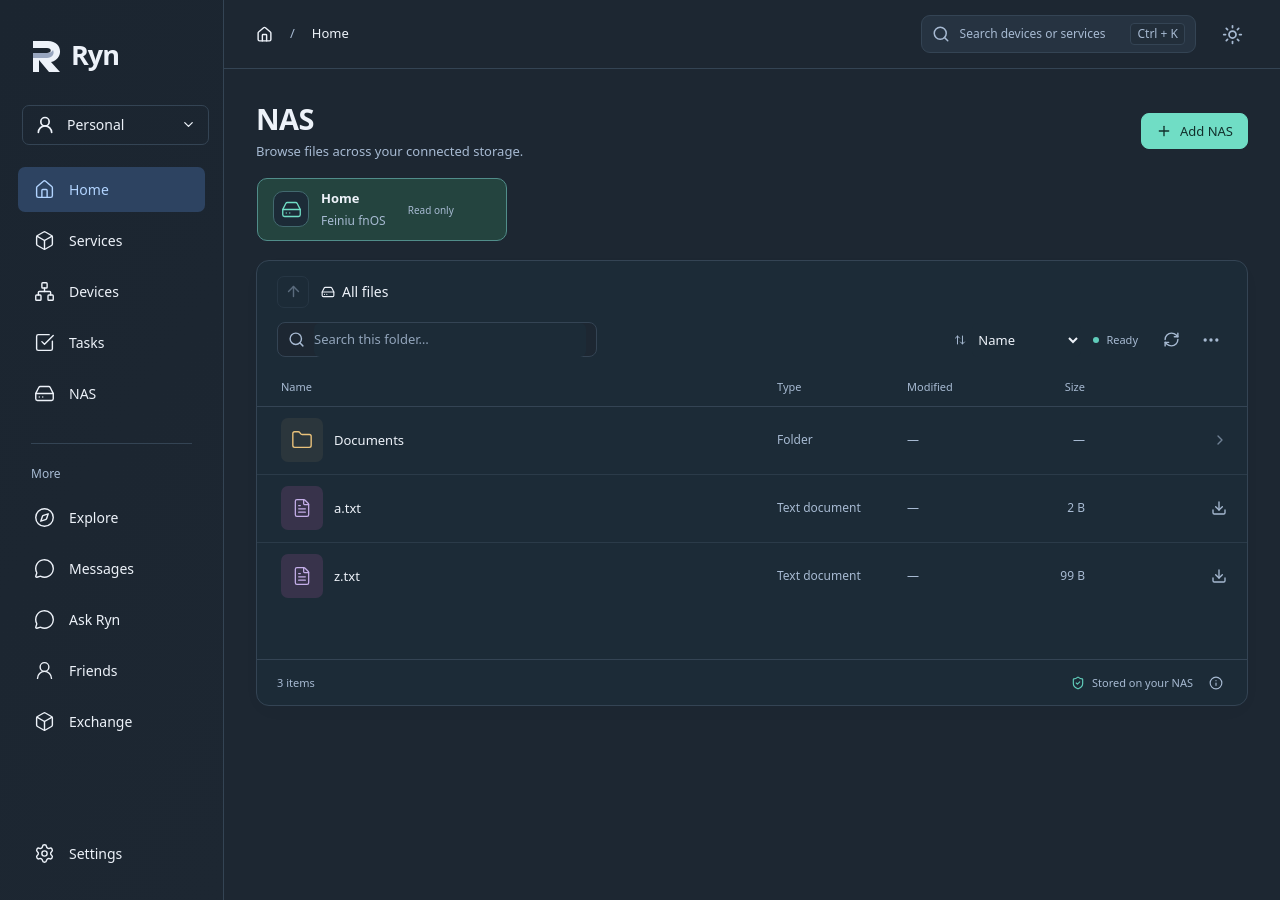
it: sorts files by size and recovers from an empty search
Expected: the button "a.txt" is shown, top-left (281, 486), bottom-right (753, 530)
Select "Size" in the dropdown named "Sort files" at (1027, 340), box top-left (972, 323), bottom-right (1081, 357)
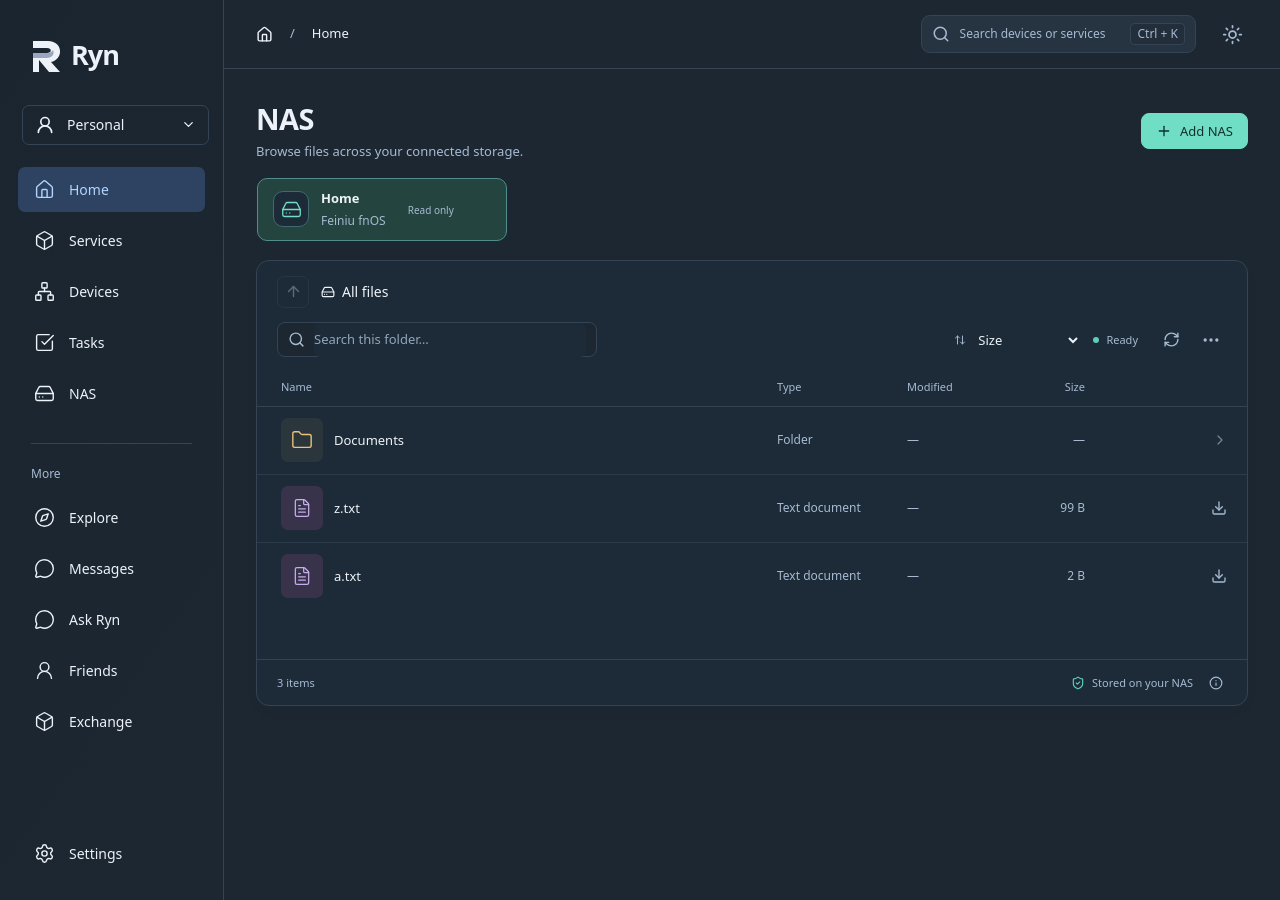
Type "missing" into the field named "Filter this folder" at (450, 340), box top-left (314, 323), bottom-right (586, 357)
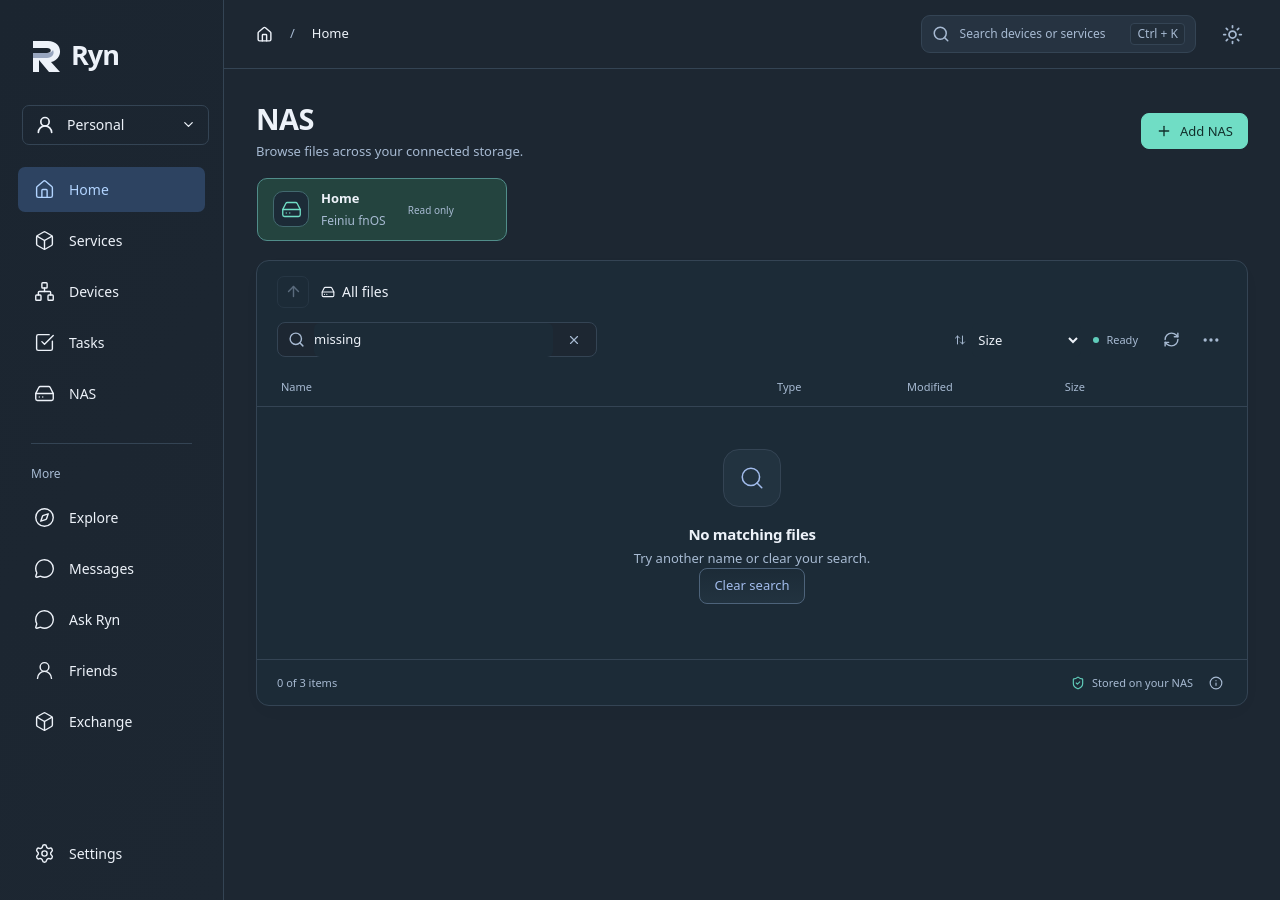
Now the heading "No matching files" is shown, box top-left (688, 524), bottom-right (816, 544)
Click the button named "Clear search" at (574, 340), box top-left (562, 327), bottom-right (586, 353)
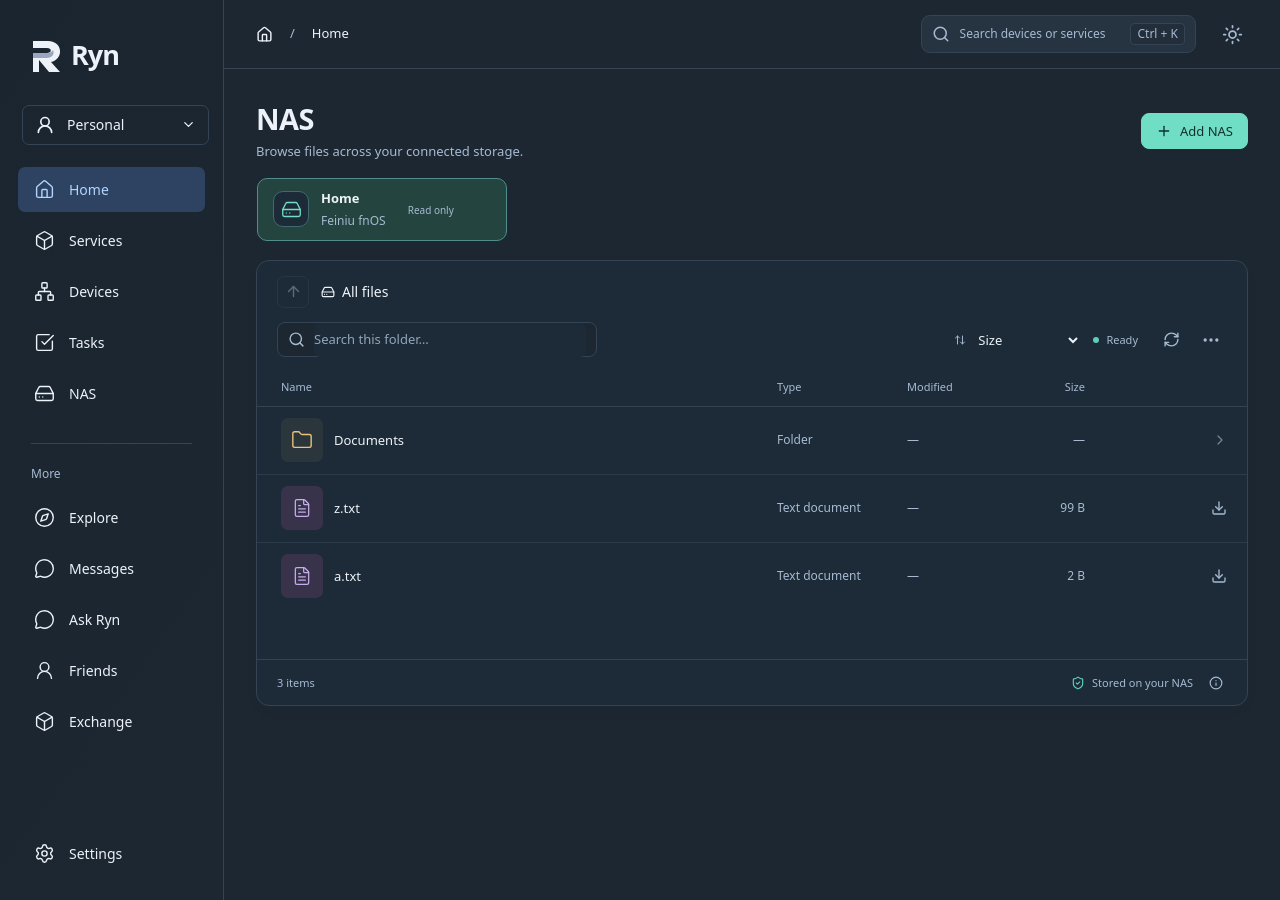
Now the button "a.txt" is shown, box top-left (281, 554), bottom-right (753, 598)
